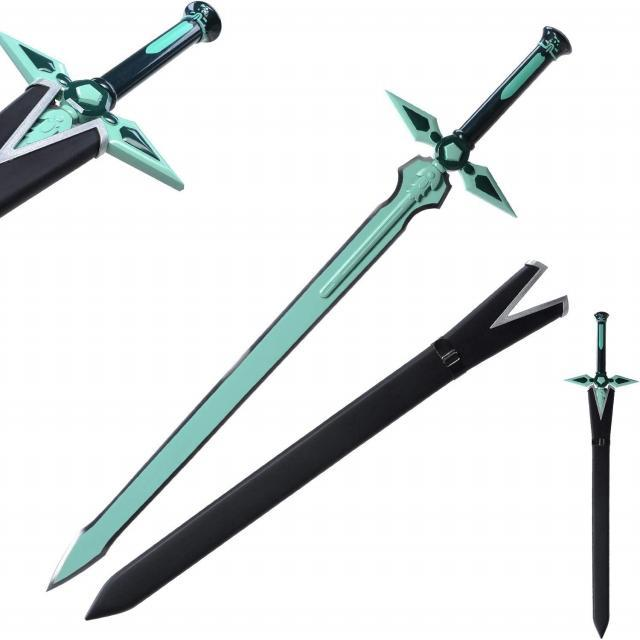scabbard: (75, 248, 613, 628)
sword: (22, 9, 588, 607), (559, 312, 631, 640)
